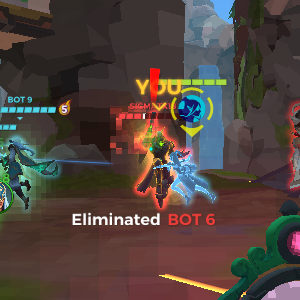model: (135, 121, 183, 210)
